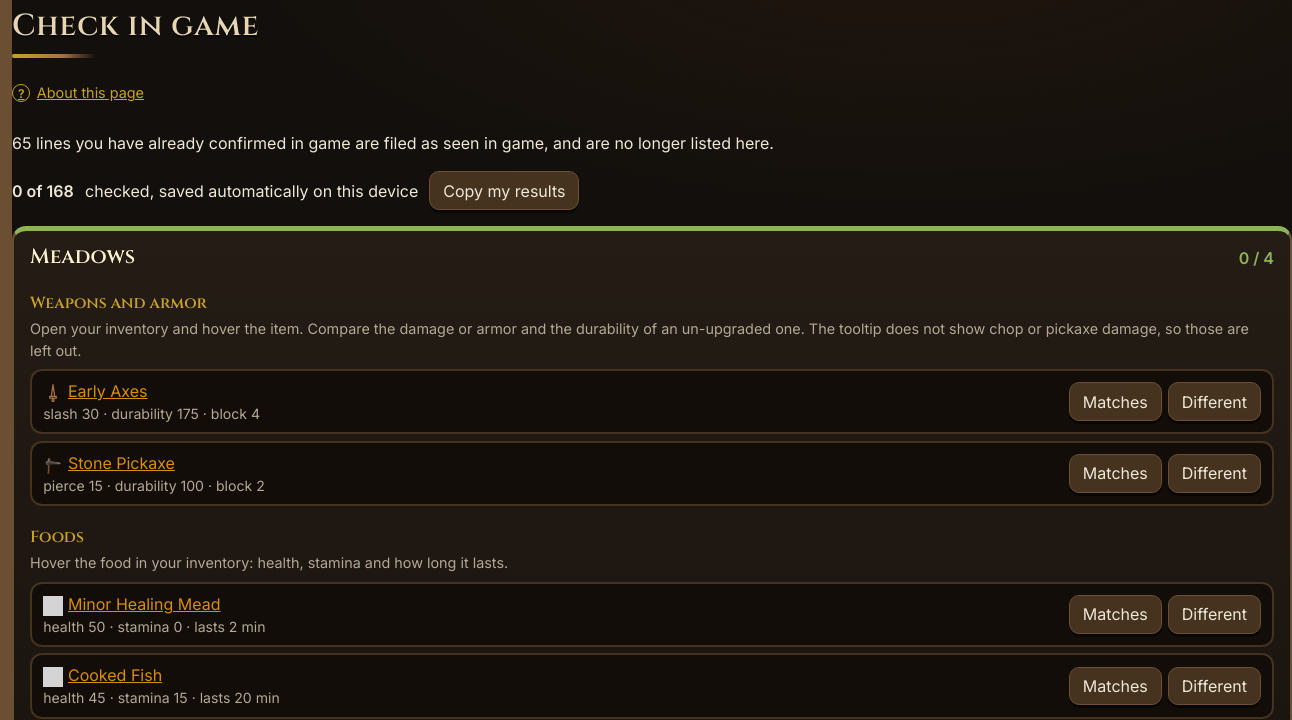
Test case: SpotCheckPage › records Matches and Different for the whole browser and counts them
The width and height of the screenshot is (1292, 720).
Click the button "Matches" in the row of "Early Axes" at [1115, 402], box [1069, 382, 1162, 421]
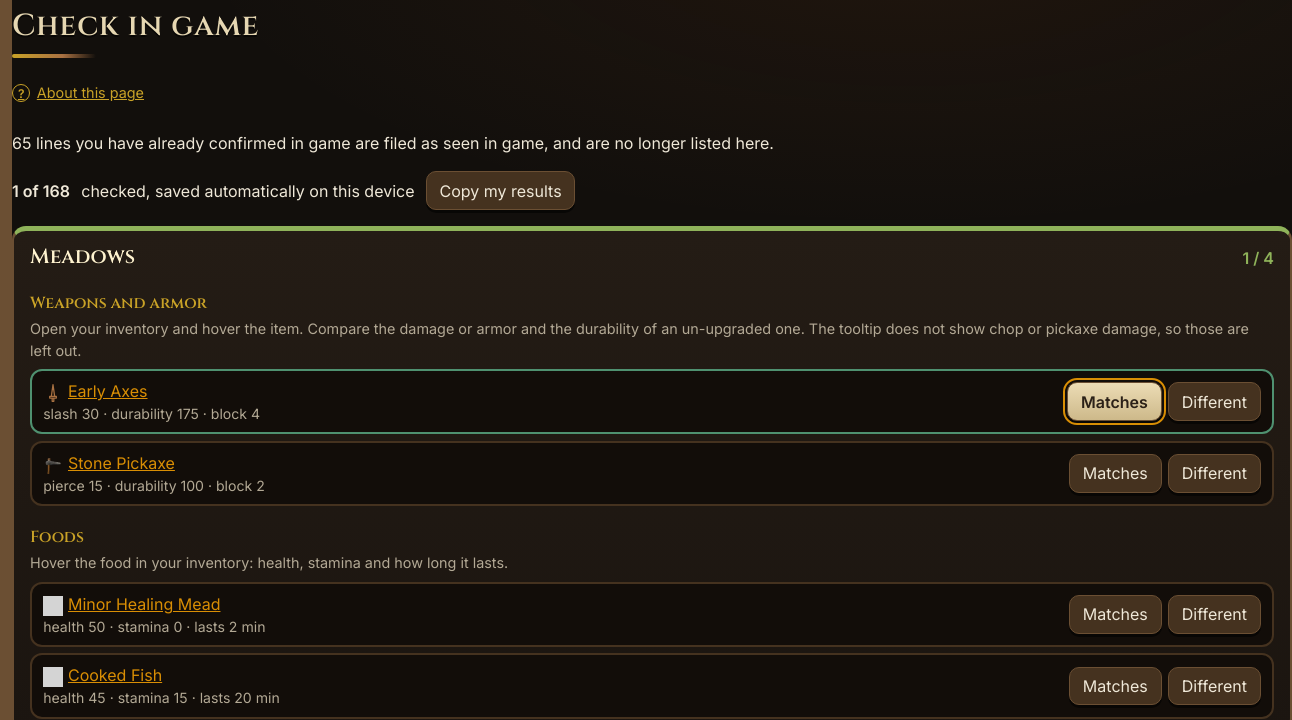
Click the button "Different" in the row of "Stone Pickaxe" at [1214, 473], box [1168, 454, 1261, 493]
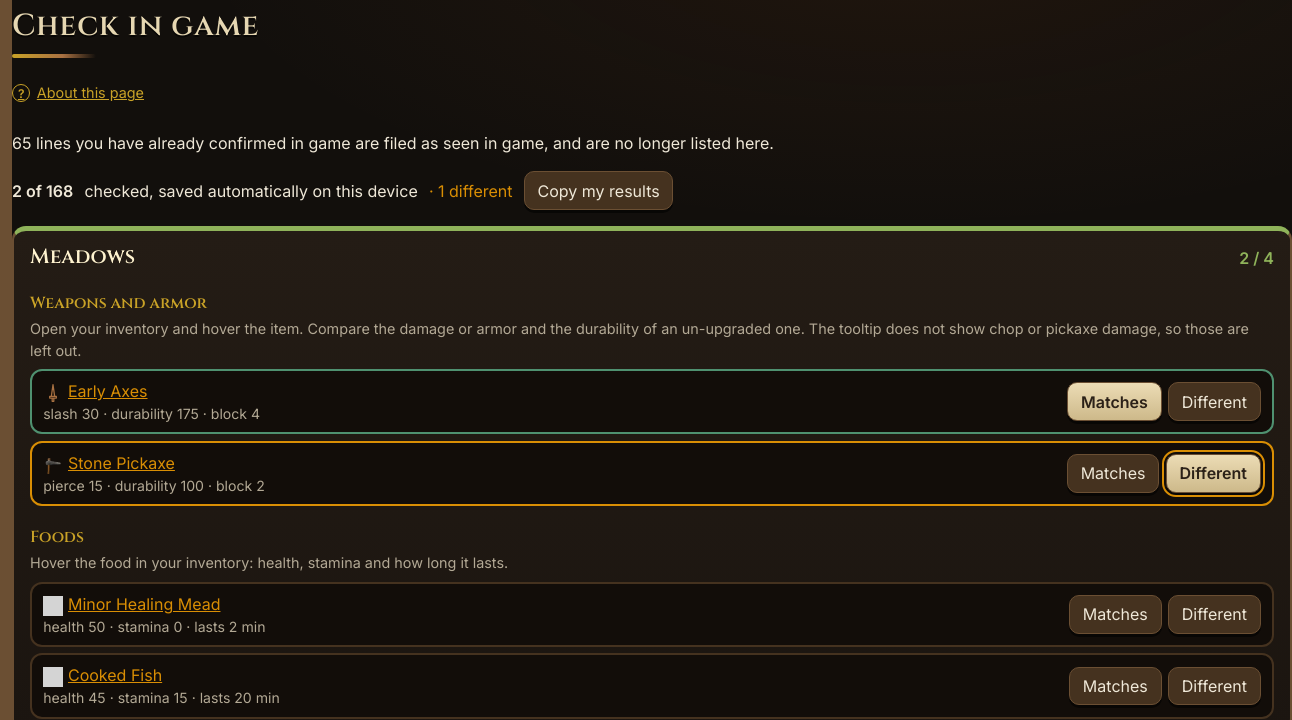
Expected: the text "· 1 different" is shown, [429, 179, 513, 203]
Expected: the text "2 of 168" is shown, [12, 179, 73, 203]
